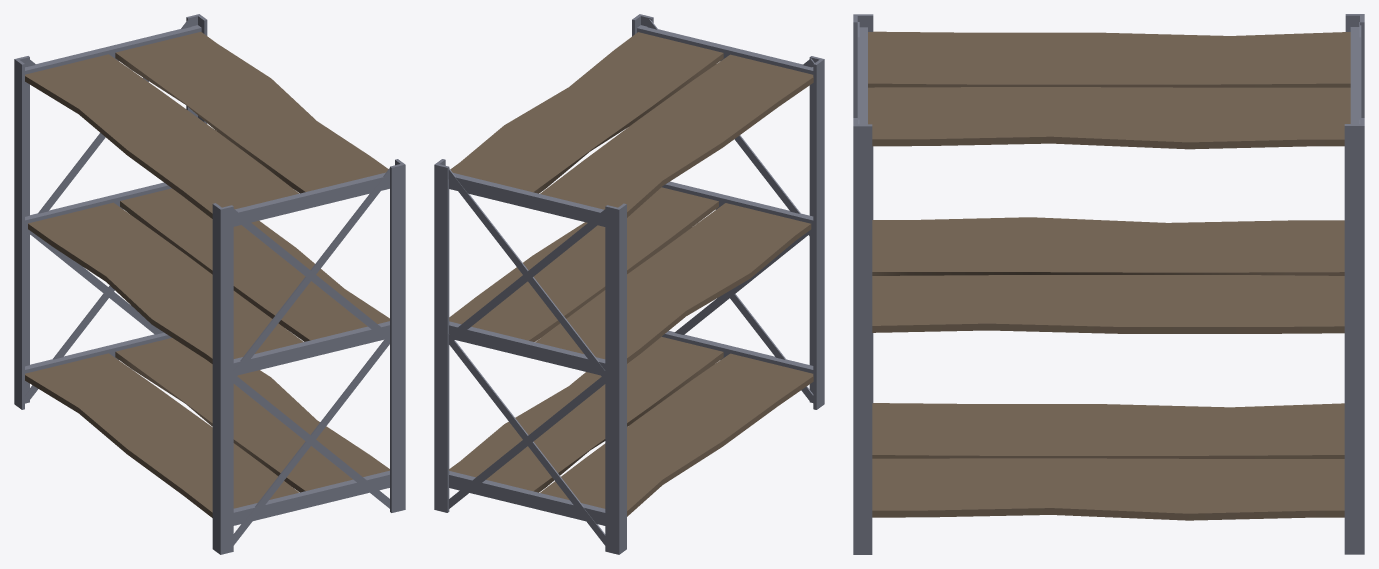
File: StellageKast.fbx
3 renders of one model, left to right at view 1: azimuth 30°, elevation 25°; view 2: azimuth 150°, elevation 25°; view 3: azimuth 270°, elevation 25°, orthographic. The views are drawn at different scales.
Visible parts, largest first — view 1: StellageKast; view 2: StellageKast; view 3: StellageKast.
Boxes of the visible parts, left/top/right/bottom form: StellageKast: left=14, top=14, right=405, bottom=554; StellageKast: left=434, top=14, right=824, bottom=554; StellageKast: left=853, top=14, right=1364, bottom=554.
Bounding box in the file's own units: 6.51 × 11.55 × 12.47.
